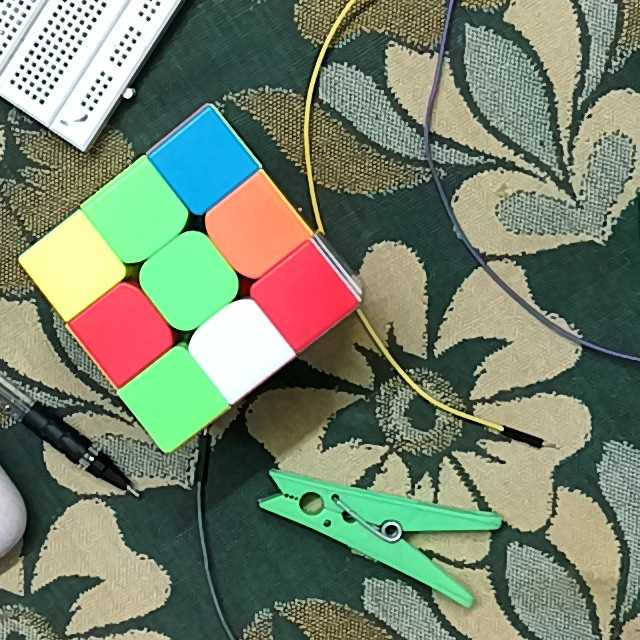tile: (227, 201, 286, 256), (110, 186, 166, 243), (162, 253, 219, 309), (278, 266, 331, 323), (177, 134, 232, 188), (210, 323, 264, 377), (145, 375, 201, 426), (99, 304, 150, 358), (45, 240, 99, 290)
